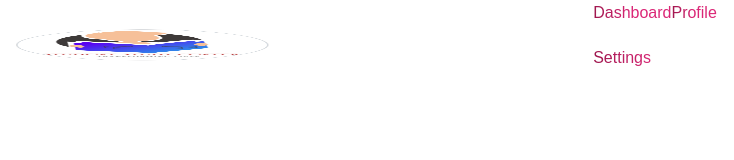
Test: Navbar › Desktop View › toggles dropdown on repeated click
The width and height of the screenshot is (734, 160).
Click the link "Settings" at (655, 58), box [593, 25, 717, 91]
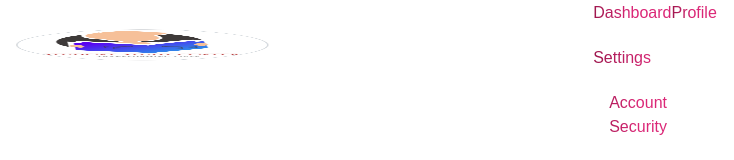
Expected: the link "Account" is shown, [593, 91, 683, 115]
Click the link "Settings" at (655, 58), box [593, 25, 717, 91]
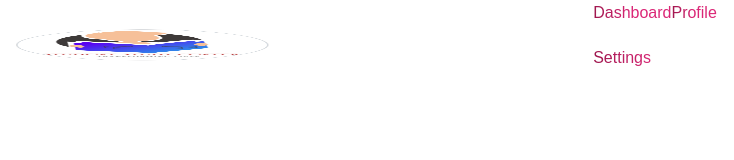
Expected: the link "Account" is gone
